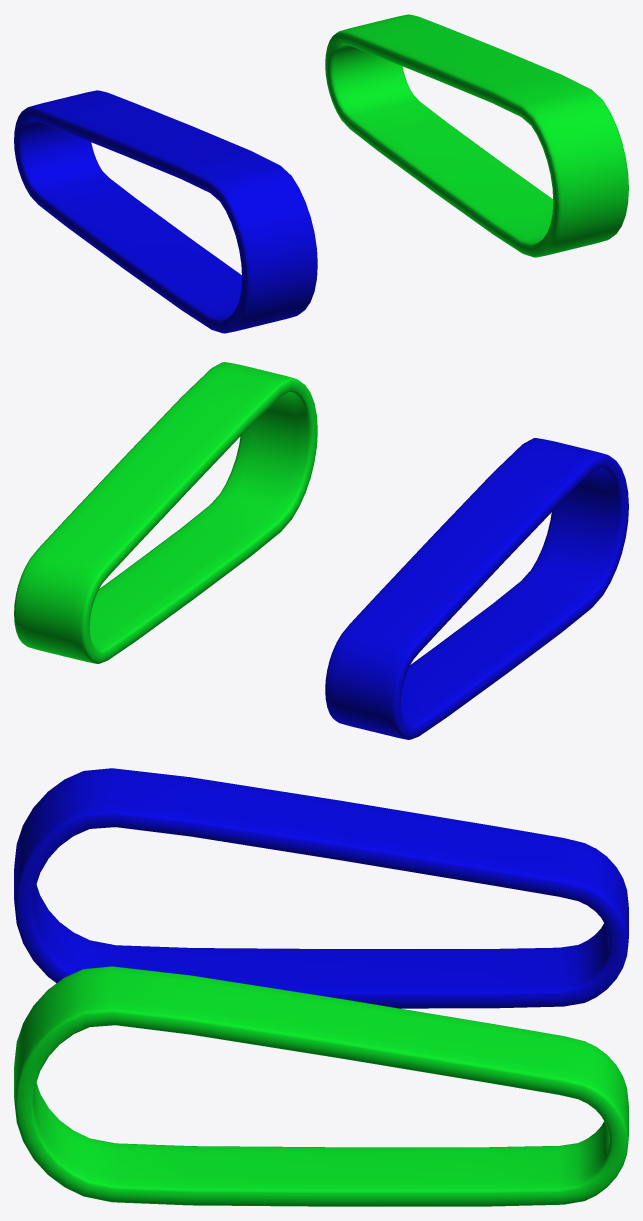
File: SK_CHAIN.fbx
3 views of the same model, one above another, from view 1: azimuth 30°, elevation 25°; view 2: azimuth 150°, elevation 25°; view 3: azimuth 270°, elevation 25° (orthographic). The views are drawn at different scales.
Parts seen in each view (by area): view 1: SM_Chaine_Low; view 2: SM_Chaine_Low; view 3: SM_Chaine_Low.
Part boxes in pixels (x1,y1,x2,y2): SM_Chaine_Low: (14,14,628,333); SM_Chaine_Low: (14,362,628,739); SM_Chaine_Low: (14,768,628,1206).
Size of the model in its own units: 85.11 by 32.43 by 90.73.
